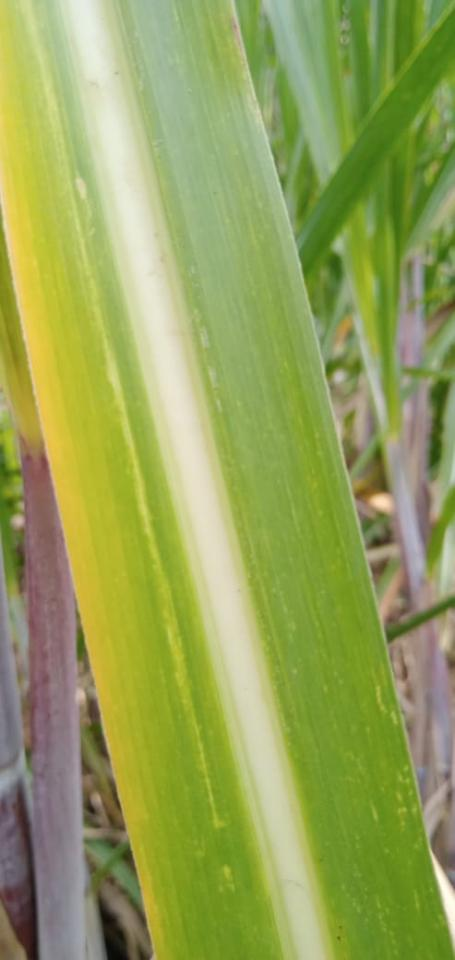Yellow: (0, 115, 167, 959)
